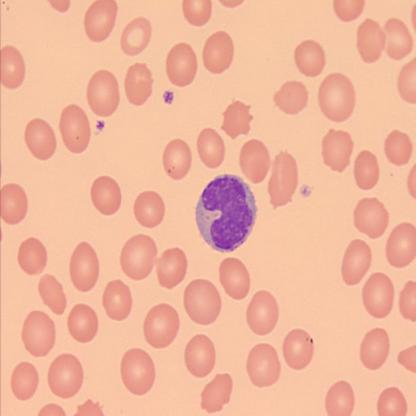Monocyte: (195, 172, 258, 254)
